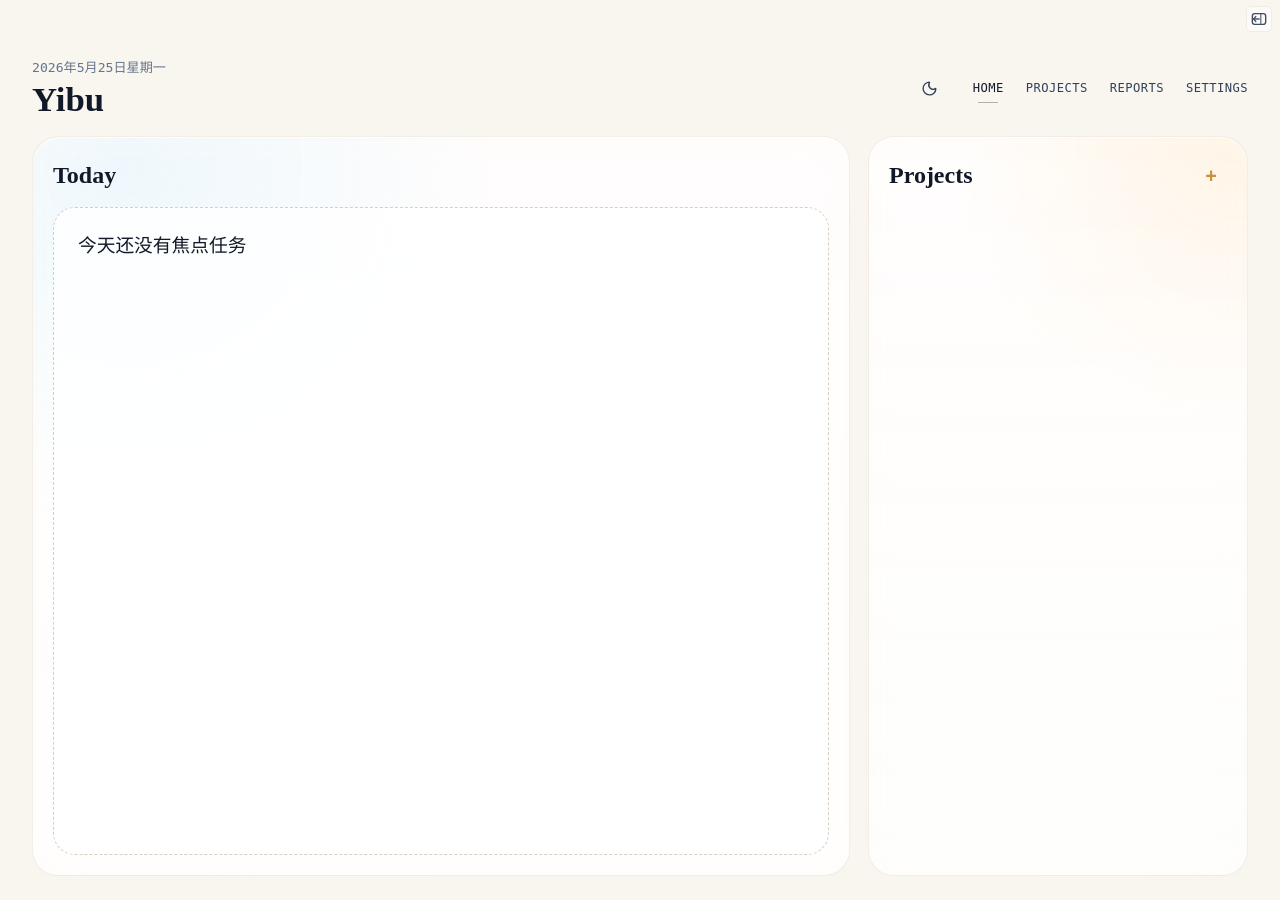
Test: preferences store › opens settings as a page and supports close interactions
Click the link "Settings": (1217, 88) [1186,71,1248,105]
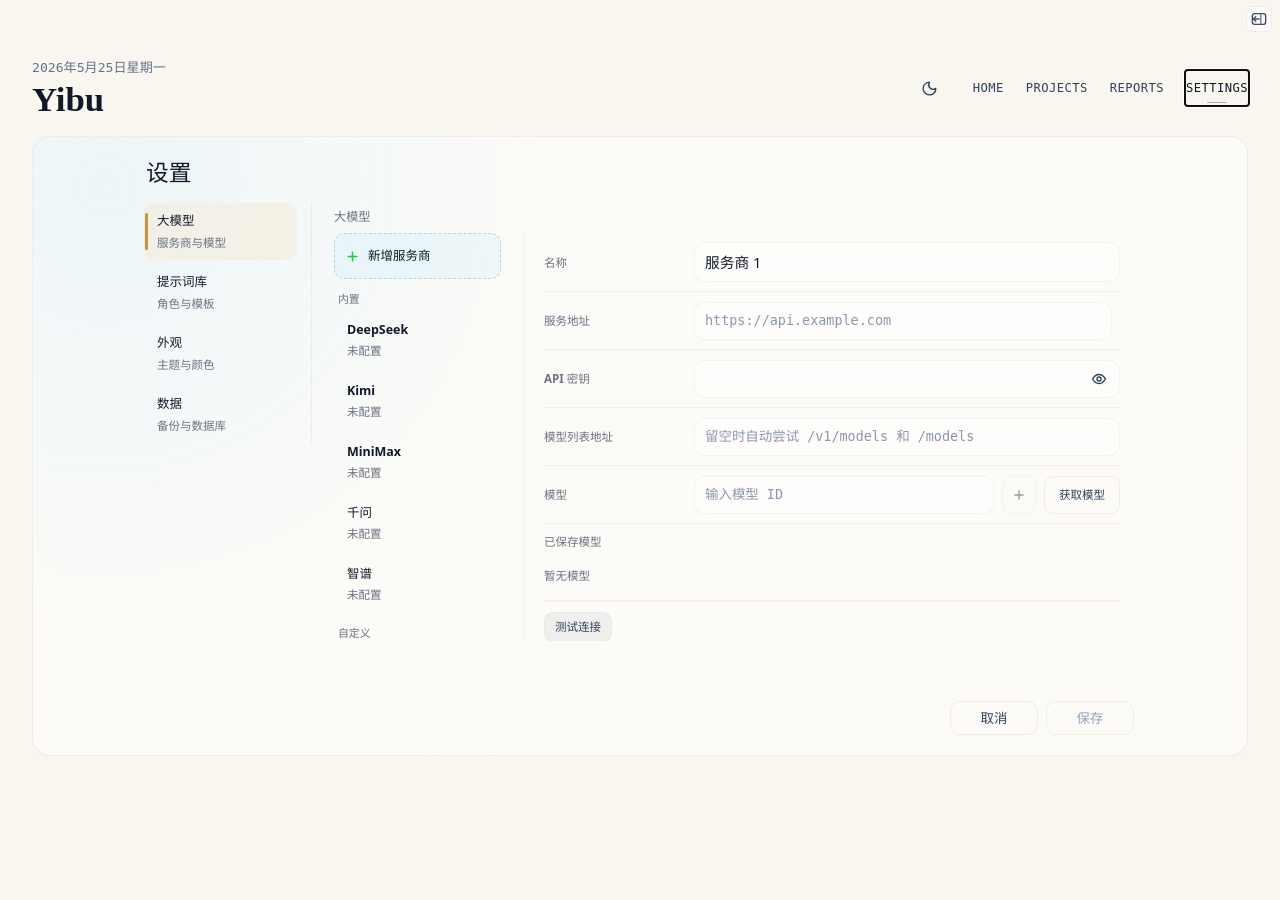
Expected: the heading "设置" is shown, [146,157,191,191]
Expected: the button "DeepSeek 未配置" is shown, [334,312,497,369]
Expected: the button "测试连接" is shown, [544,612,612,641]
Click the button "数据 备份与数据库": (220, 415) [144,386,297,443]
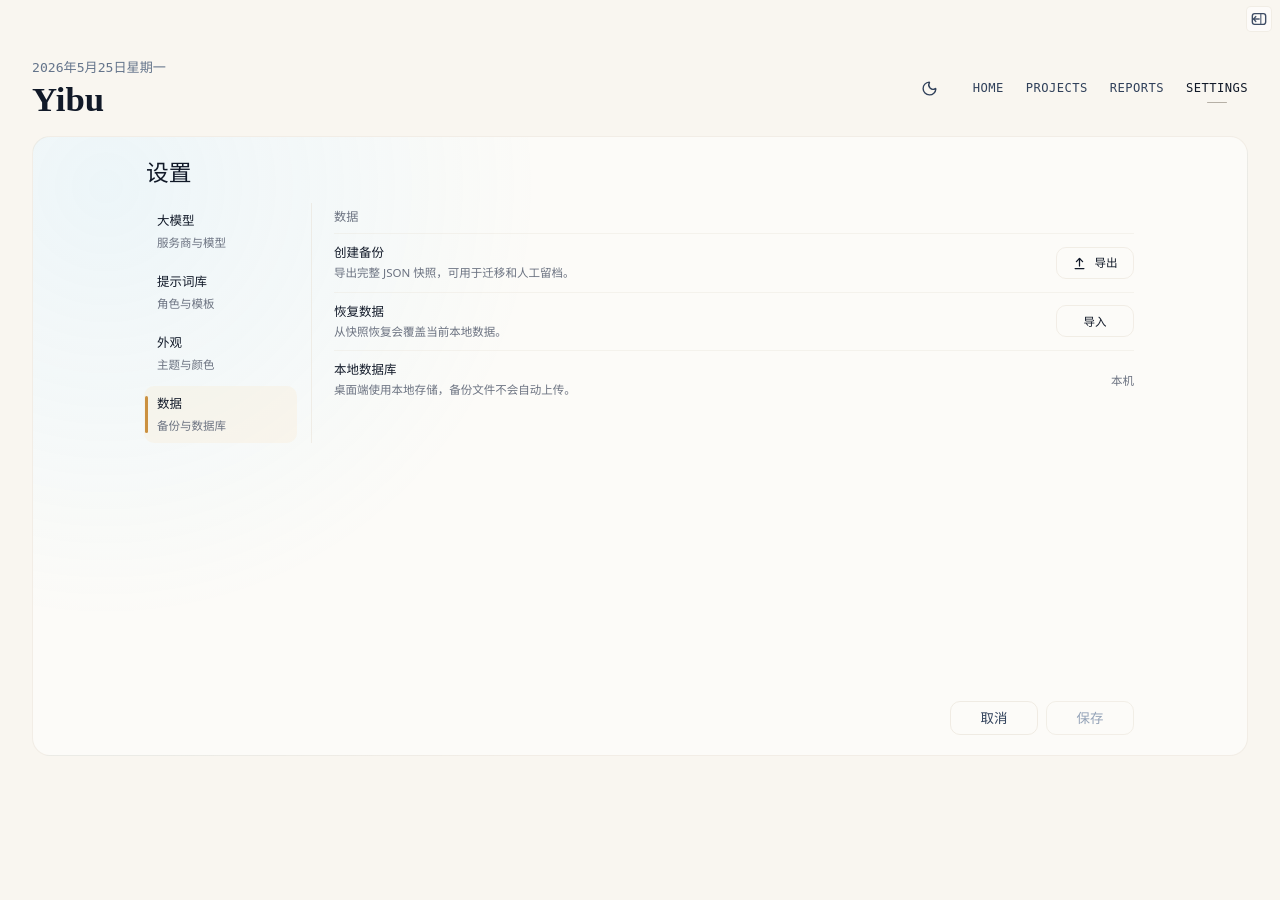
Expected: the button "保存" is shown, [1046,701,1134,735]
Expected: the button with aria-label "创建备份" is shown, [1056,247,1134,279]
Expected: the button with aria-label "恢复数据" is shown, [1056,306,1134,338]
Click the button with aria-label "关闭": (994, 718) [950,701,1038,735]
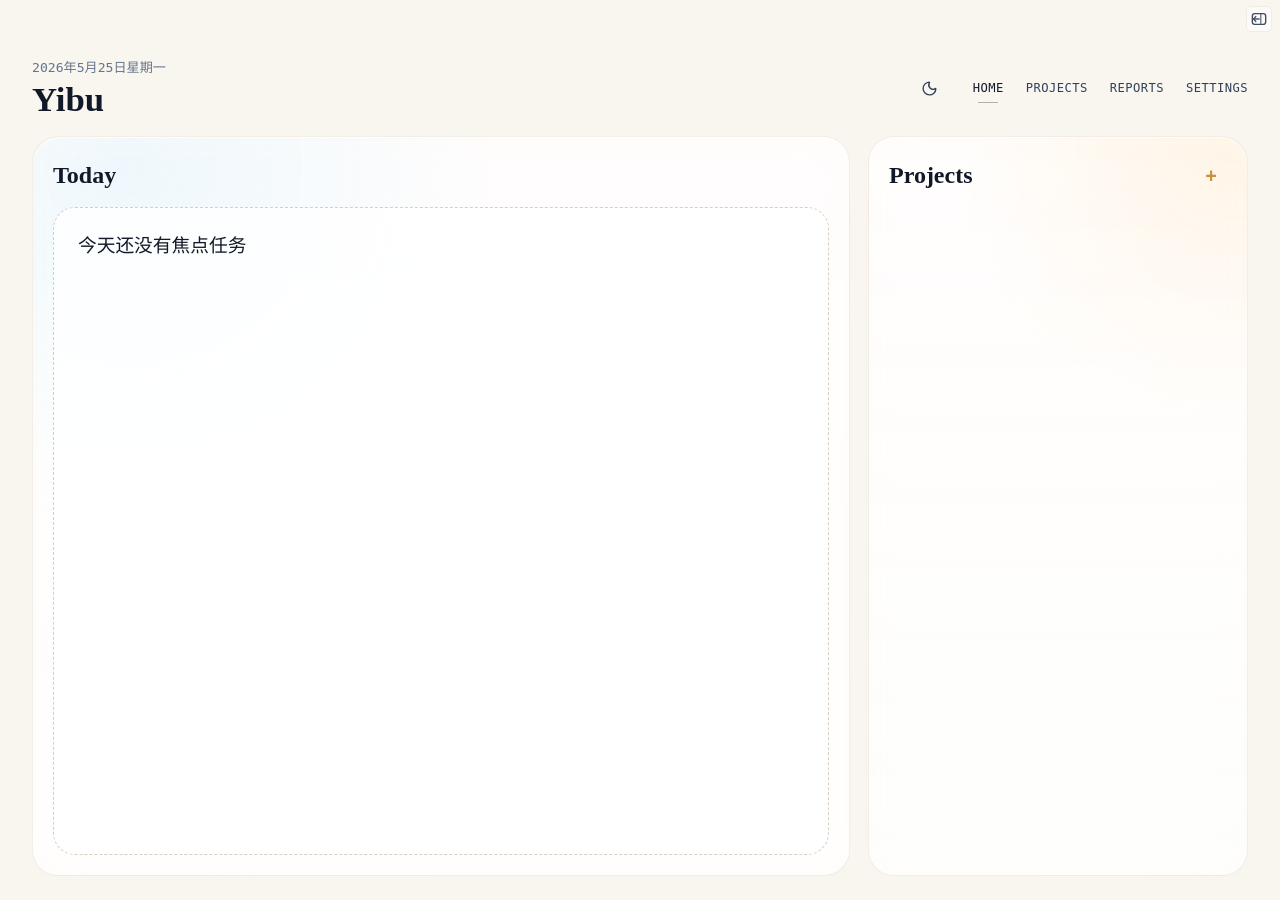
Expected: the heading "设置" is gone
